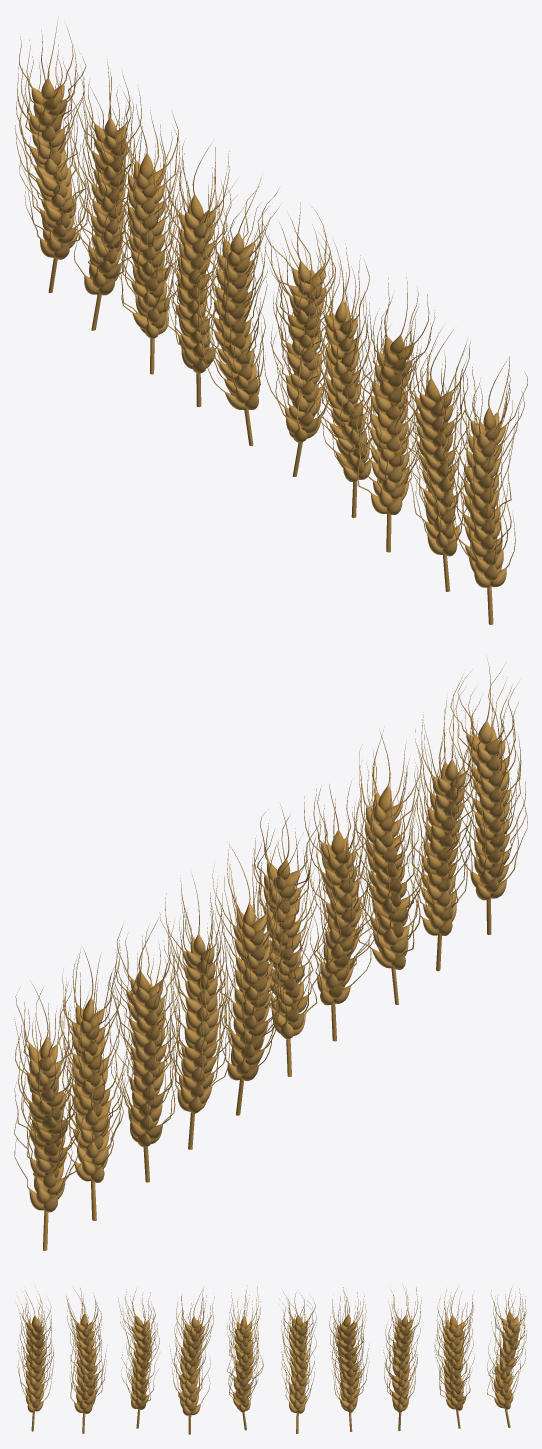
The model's file is wheat_stalks.glb.
The picture shows the model from 3 angles, top to bottom: view 1: azimuth 30°, elevation 25°; view 2: azimuth 150°, elevation 25°; view 3: azimuth 270°, elevation 25°; orthographic projection. The views are drawn at different scales.
Parts seen in each view (by area): view 1: Oats_06, Oats_10, Oats_08, Oats_03, Oats_01, Oats_05, Oats_02, Oats_04, Oats_09, Oats_07; view 2: Oats_03, Oats_06, Oats_01, Oats_07, Oats_08, Oats_09, Oats_10, Oats_04, Oats_02, Oats_05; view 3: Oats_02, Oats_04, Oats_07, Oats_09, Oats_01, Oats_06, Oats_05, Oats_10, Oats_08, Oats_03.
Boxes of the visible parts, box(x1,y1,x2,y2) form: Oats_06: box(198, 177, 279, 445); Oats_10: box(14, 19, 87, 292); Oats_08: box(112, 102, 187, 374); Oats_03: box(353, 273, 435, 552); Oats_01: box(444, 356, 527, 624); Oats_05: box(259, 202, 340, 476); Oats_02: box(397, 328, 470, 591); Oats_04: box(306, 240, 377, 517); Oats_09: box(68, 59, 141, 330); Oats_07: box(160, 141, 231, 406); Oats_03: box(352, 730, 424, 1004); Oats_06: box(212, 844, 288, 1115); Oats_01: box(449, 658, 527, 934); Oats_07: box(159, 875, 231, 1149); Oats_08: box(107, 914, 184, 1182); Oats_09: box(59, 946, 128, 1220); Oats_10: box(14, 980, 91, 1250); Oats_04: box(303, 781, 380, 1041); Oats_02: box(407, 688, 477, 971); Oats_05: box(252, 805, 325, 1076); Oats_02: box(66, 1288, 107, 1433); Oats_04: box(169, 1288, 214, 1434); Oats_07: box(329, 1287, 369, 1431); Oats_09: box(434, 1288, 475, 1428); Oats_01: box(17, 1286, 54, 1431); Oats_06: box(279, 1292, 316, 1433); Oats_05: box(227, 1286, 263, 1430); Oats_10: box(487, 1288, 526, 1427); Oats_08: box(383, 1286, 421, 1430); Oats_03: box(118, 1289, 159, 1428).
Size of the model in its own units: 63.74 by 212 by 647.
Materials: 1 (1 with a texture image).
